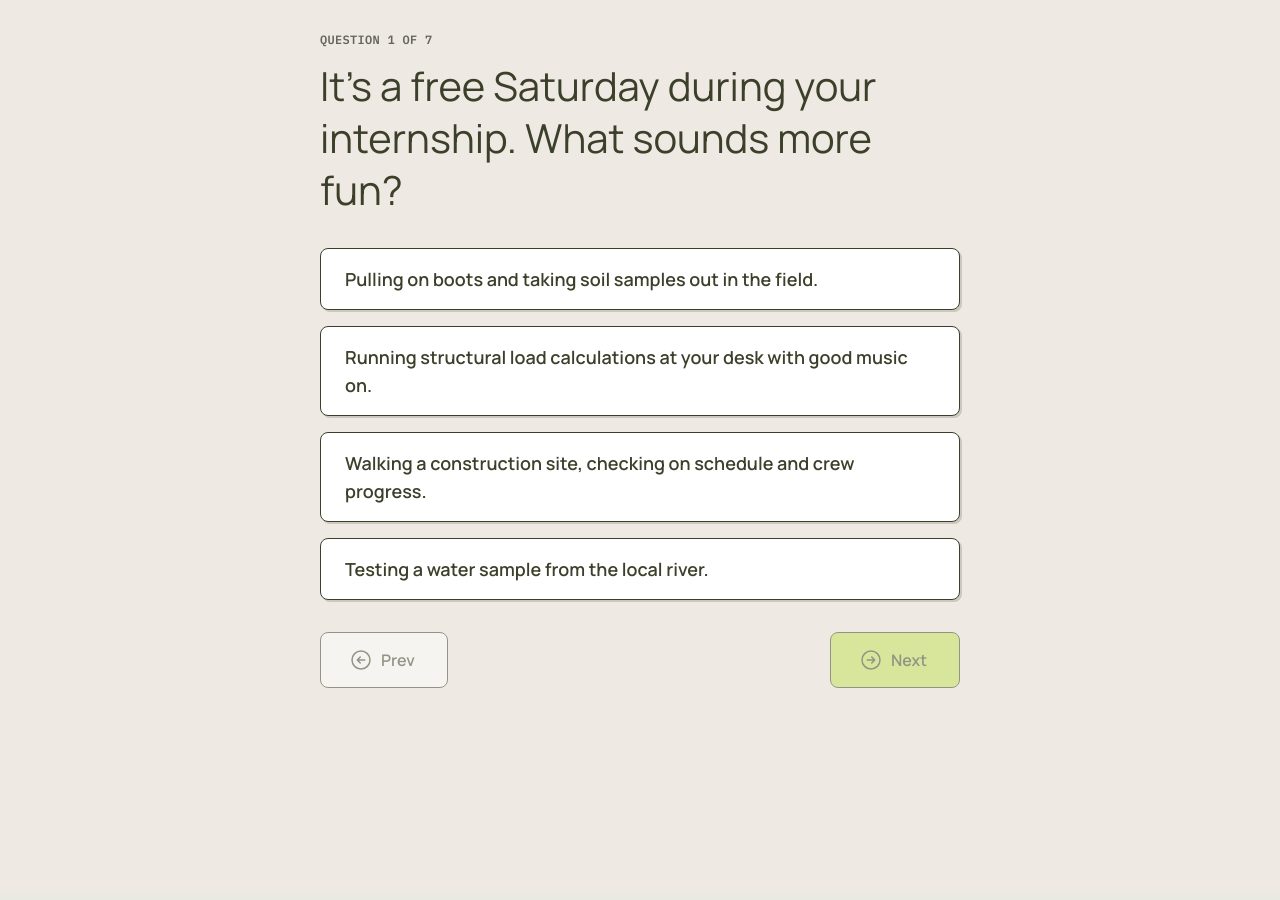
Test: QuizFlow › a previously selected answer still shows as selected after Prev then revisiting
Step 1. Click the button "Pulling on boots and taking soil samples out in the field." → [640, 279], box [320, 248, 960, 310]
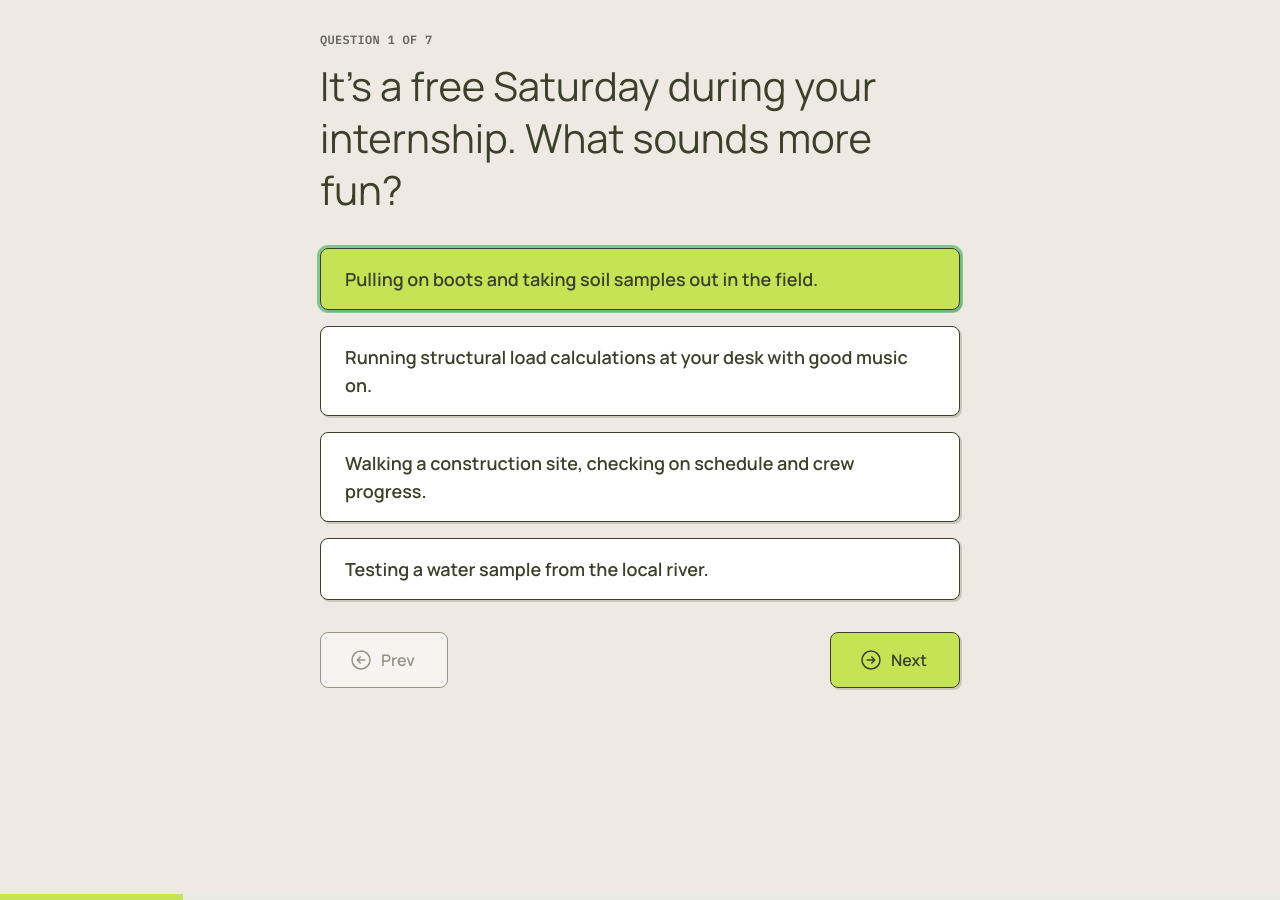
Step 2. Click the button "Next" → [895, 660], box [830, 632, 960, 688]
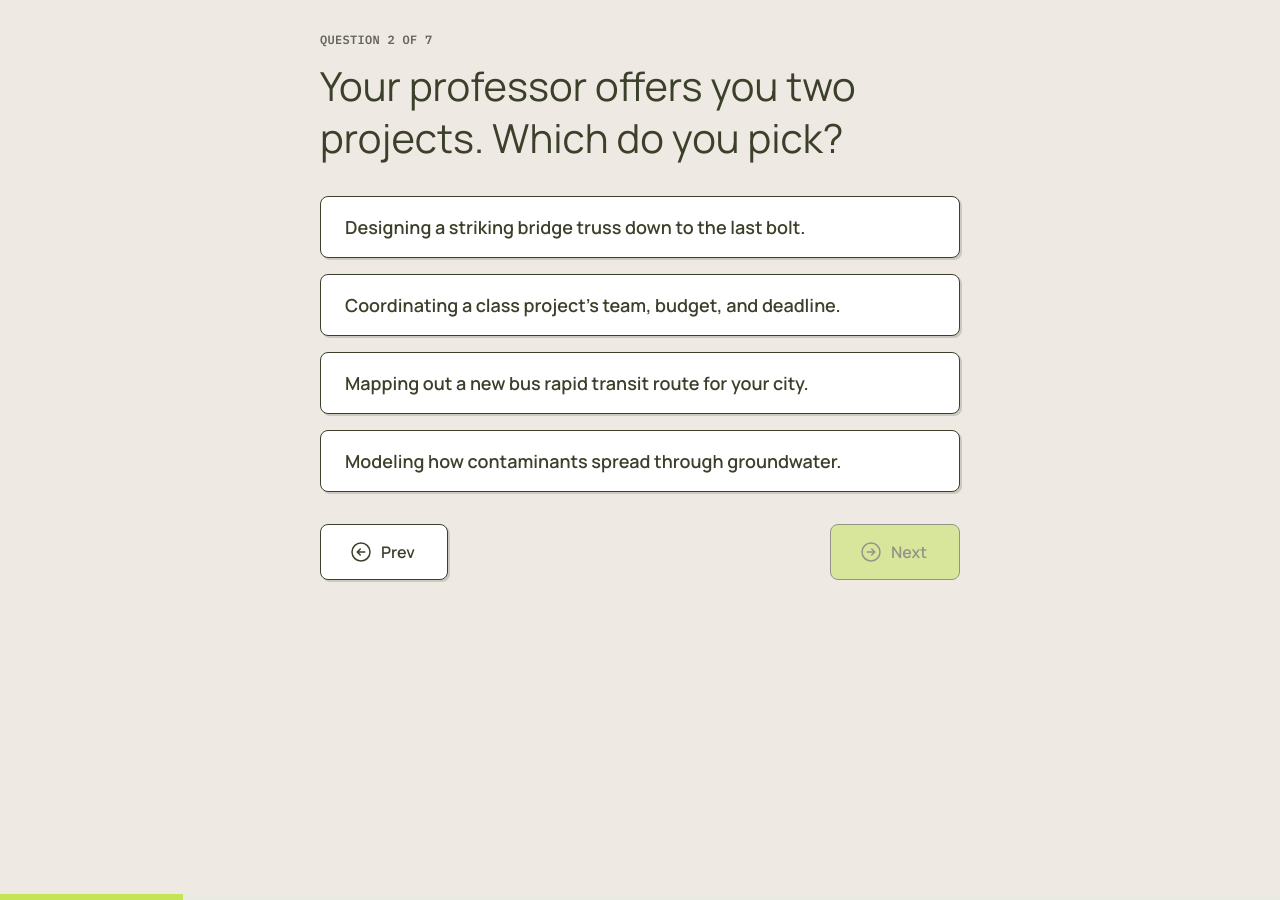
Step 3. Click the button "Designing a striking bridge truss down to the last bolt." → [640, 227], box [320, 196, 960, 258]
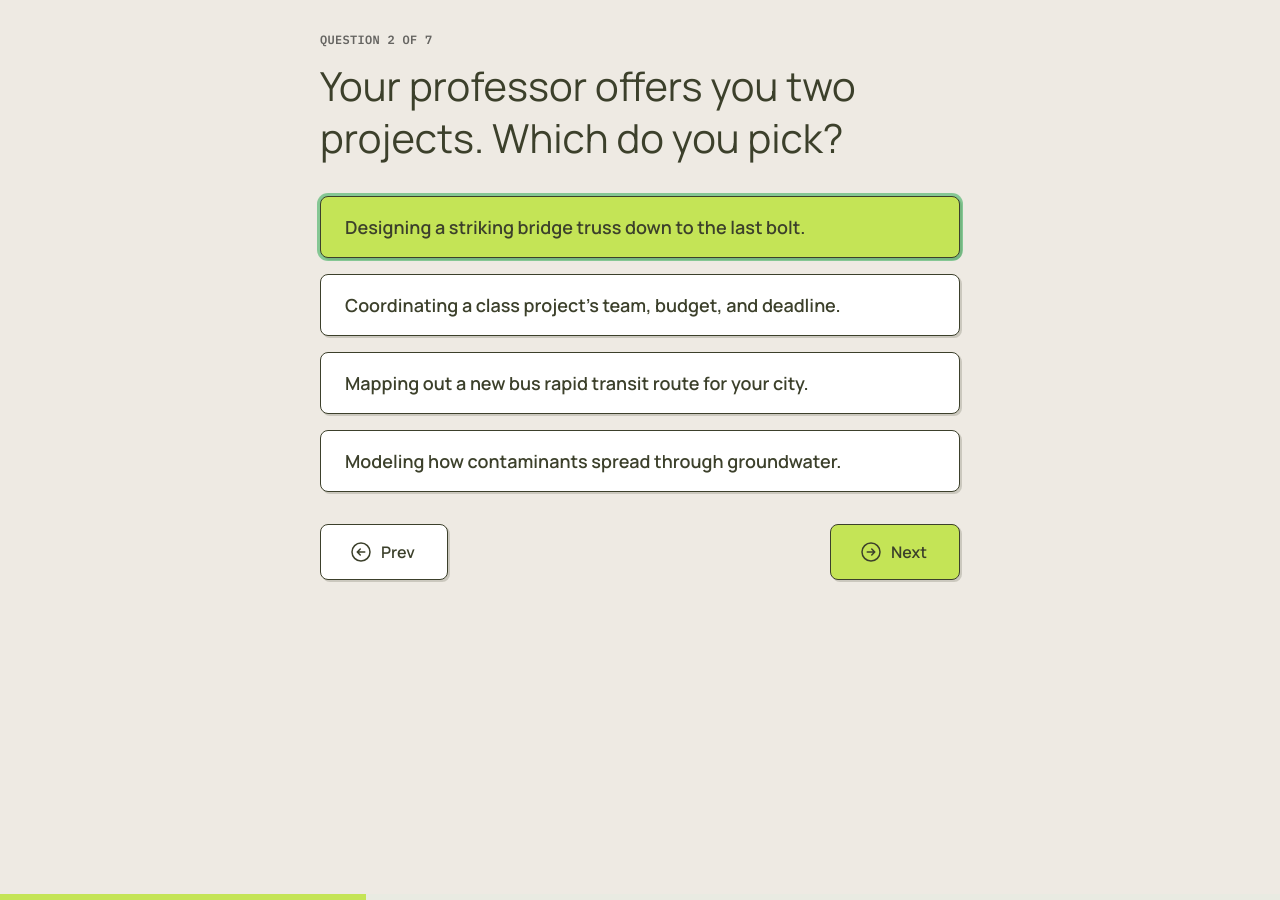
Step 4. Click the button "Prev" → [384, 552], box [320, 524, 448, 580]
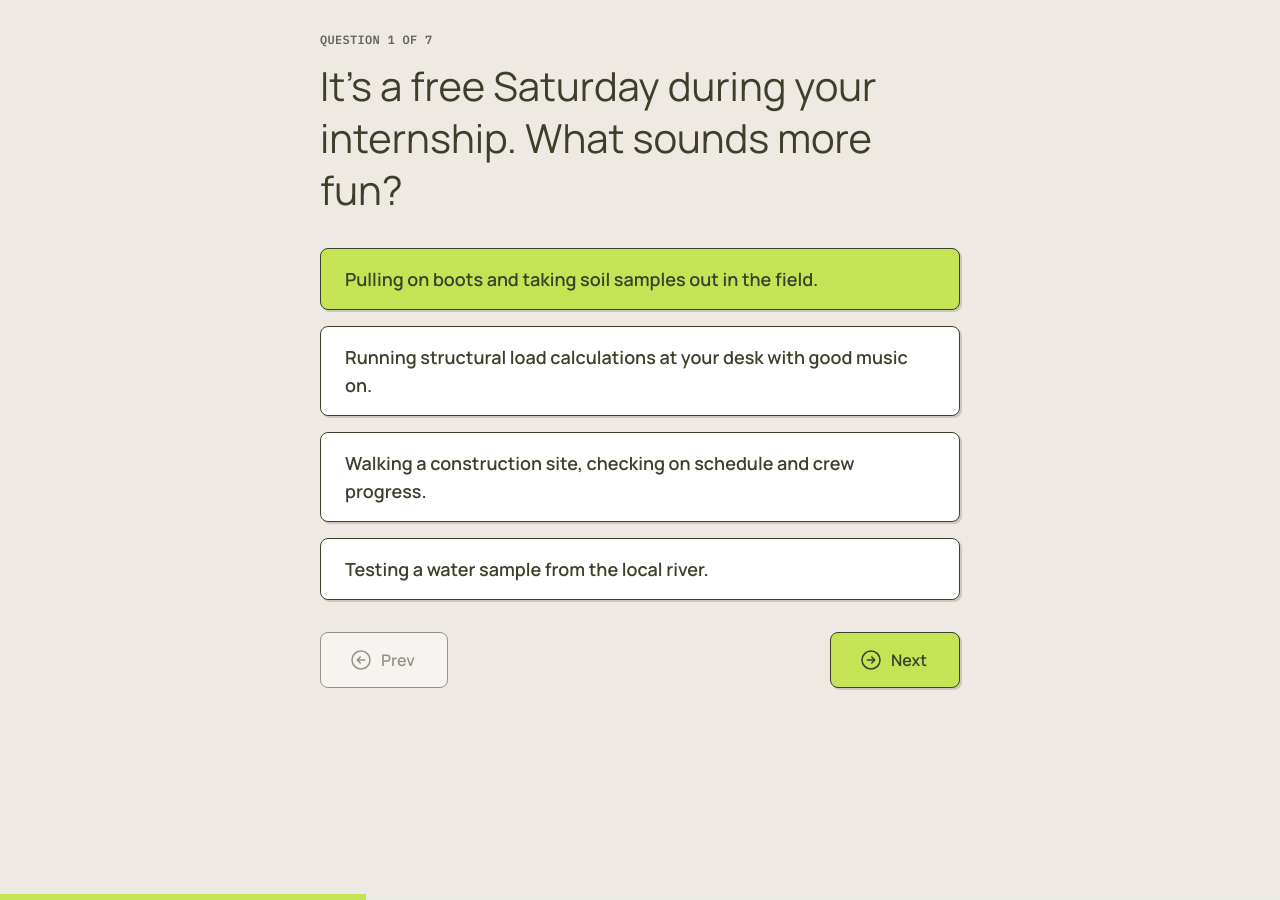
Expected: the button "Pulling on boots and taking soil samples out in the field." is shown, [320, 248, 960, 310]
